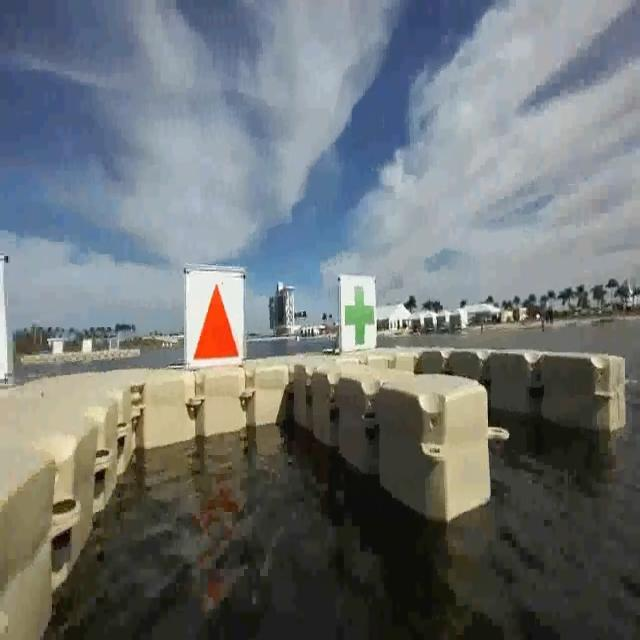blue-cross: (338, 274, 377, 357)
red-dot: (186, 266, 244, 370)
